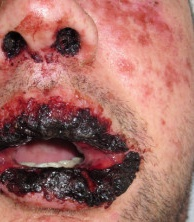SJS-TEN: (0, 98, 155, 208), (84, 0, 194, 135), (0, 24, 84, 67)
